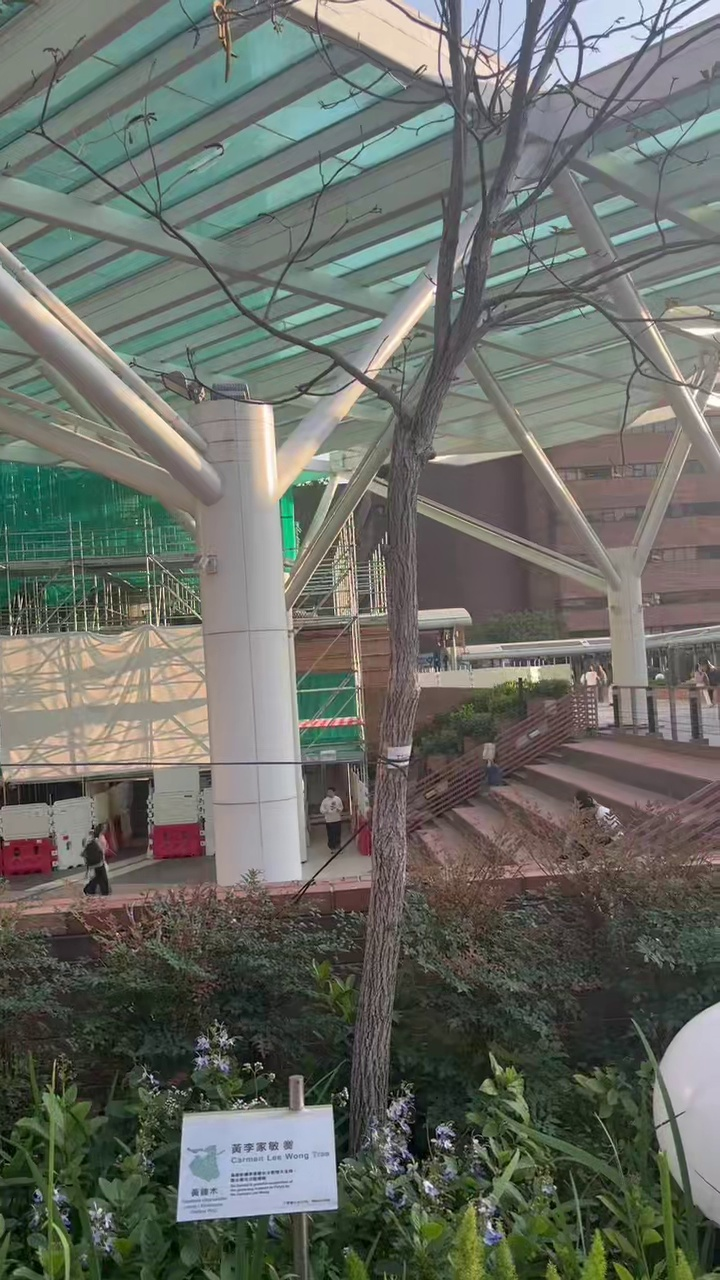Tabebuia chrysantha: (257, 0, 639, 1149)
